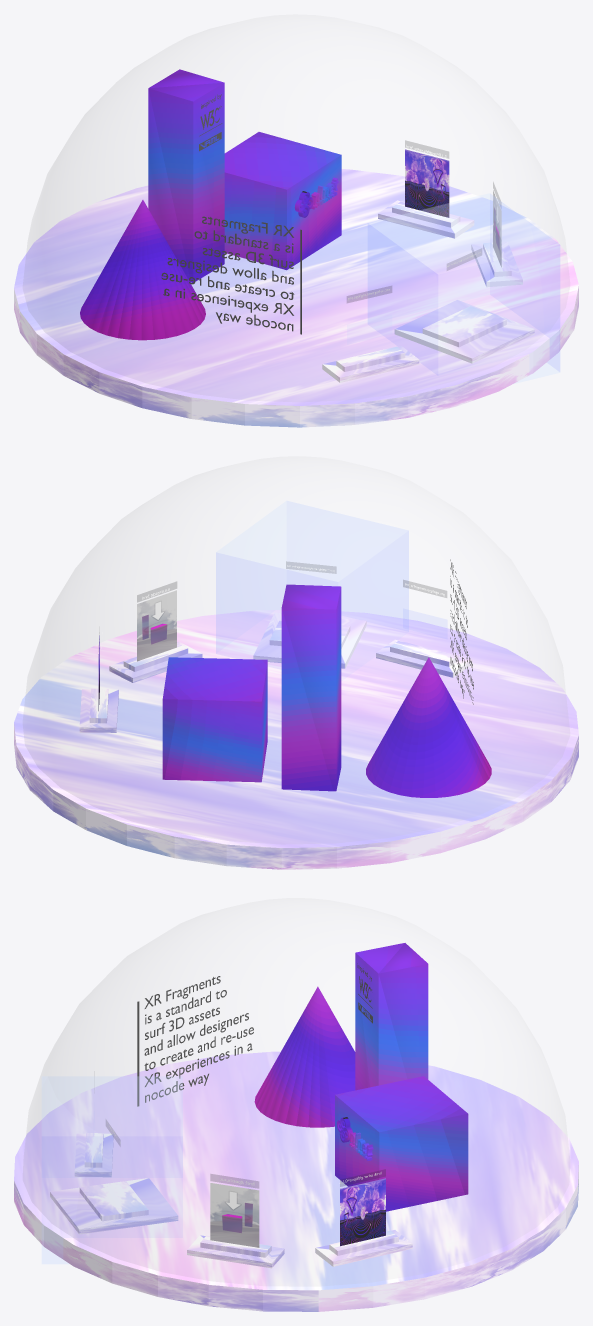
File: src.gltf
3 renders of one model, top to bottom at view 1: azimuth 30°, elevation 25°; view 2: azimuth 150°, elevation 25°; view 3: azimuth 270°, elevation 25°, orthographic.
Parts seen in each view (by area): view 1: floorstone, primitives, Cube, cube, step.002, Text.001, door, step.003, step, step.001, logo_nlnet; view 2: floorstone, primitives, Cube, cube, door.001, step.003, step.002, step, step.001, Text.001; view 3: floorstone, primitives, Cube, cube, step.002, door.001, Text.001, door, step.001, step, step.003, logo_nlnet.
Part boxes in pixels (x1,y1,x2,y2): floorstone: [14, 169, 578, 427]; primitives: [80, 69, 224, 340]; Cube: [368, 193, 559, 383]; cube: [224, 132, 341, 270]; step.002: [394, 300, 534, 363]; Text.001: [161, 216, 294, 331]; door: [405, 149, 449, 217]; step.003: [322, 346, 419, 382]; step: [378, 200, 474, 238]; step.001: [471, 242, 522, 287]; logo_nlnet: [294, 177, 338, 217]; floorstone: [14, 610, 578, 869]; primitives: [281, 584, 491, 797]; Cube: [216, 501, 408, 653]; cube: [162, 657, 267, 782]; door.001: [137, 590, 176, 661]; step.003: [376, 639, 472, 677]; step.002: [253, 612, 366, 668]; step: [79, 688, 118, 732]; step.001: [109, 642, 202, 682]; Text.001: [450, 559, 473, 704]; floorstone: [14, 1051, 578, 1311]; primitives: [254, 943, 428, 1127]; Cube: [42, 1076, 182, 1263]; cube: [335, 1076, 468, 1211]; step.002: [50, 1178, 178, 1234]; door.001: [210, 1183, 259, 1247]; Text.001: [144, 976, 253, 1102]; door: [340, 1178, 385, 1246]; step.001: [187, 1235, 284, 1268]; step: [315, 1230, 412, 1266]; step.003: [74, 1133, 113, 1177]; logo_nlnet: [337, 1117, 373, 1160].
Size of what is drawn, in the model's own units: 20.66 by 11.06 by 20.66.
9 materials, 3 textured.
